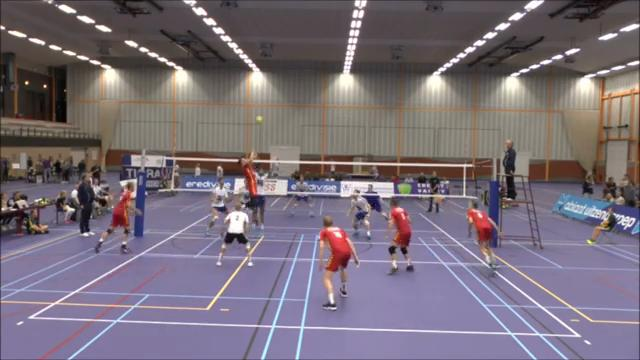attacco: (235, 150, 266, 210)
